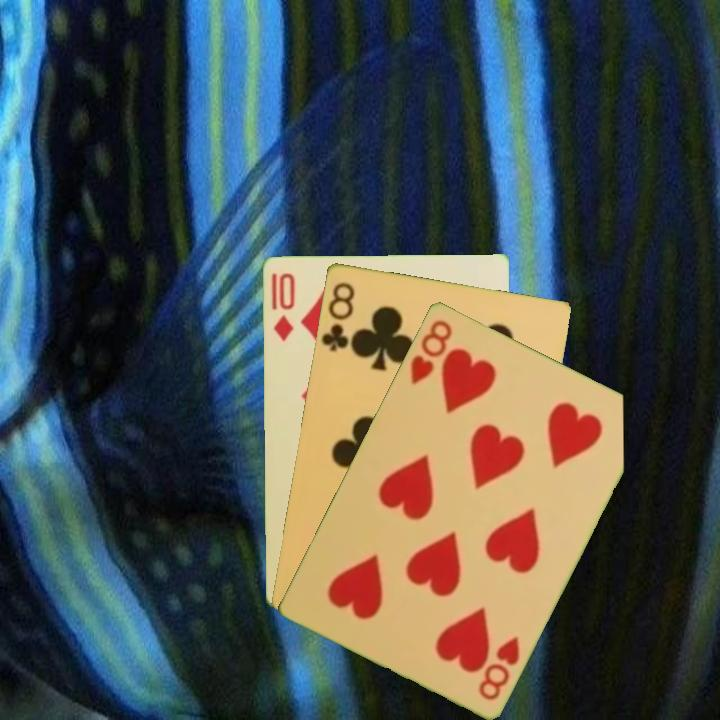10d: (268, 269, 298, 343)
8c: (317, 278, 357, 354)
8h: (406, 316, 455, 387), (475, 632, 523, 703)
